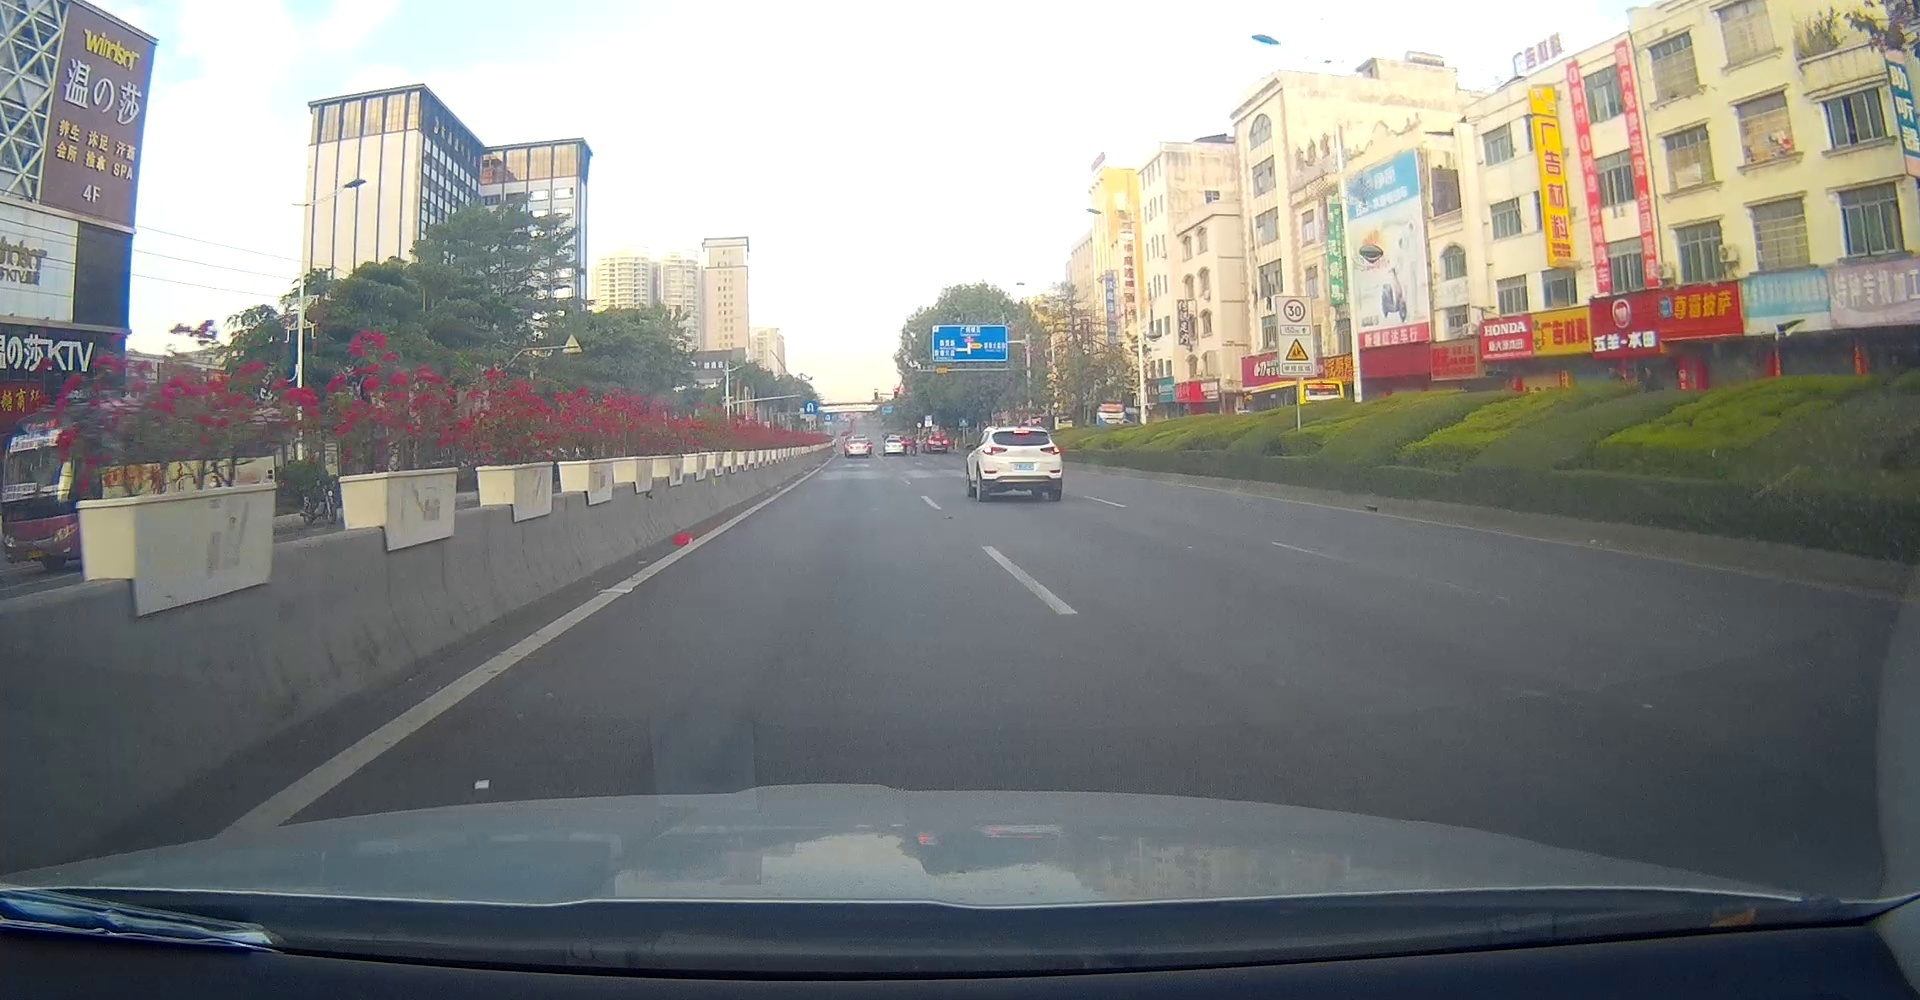L_light: (982, 445, 1007, 456)
R_light: (1040, 445, 1060, 456)
T_light: (1013, 429, 1030, 434)
day-brake: (980, 426, 1062, 499)
